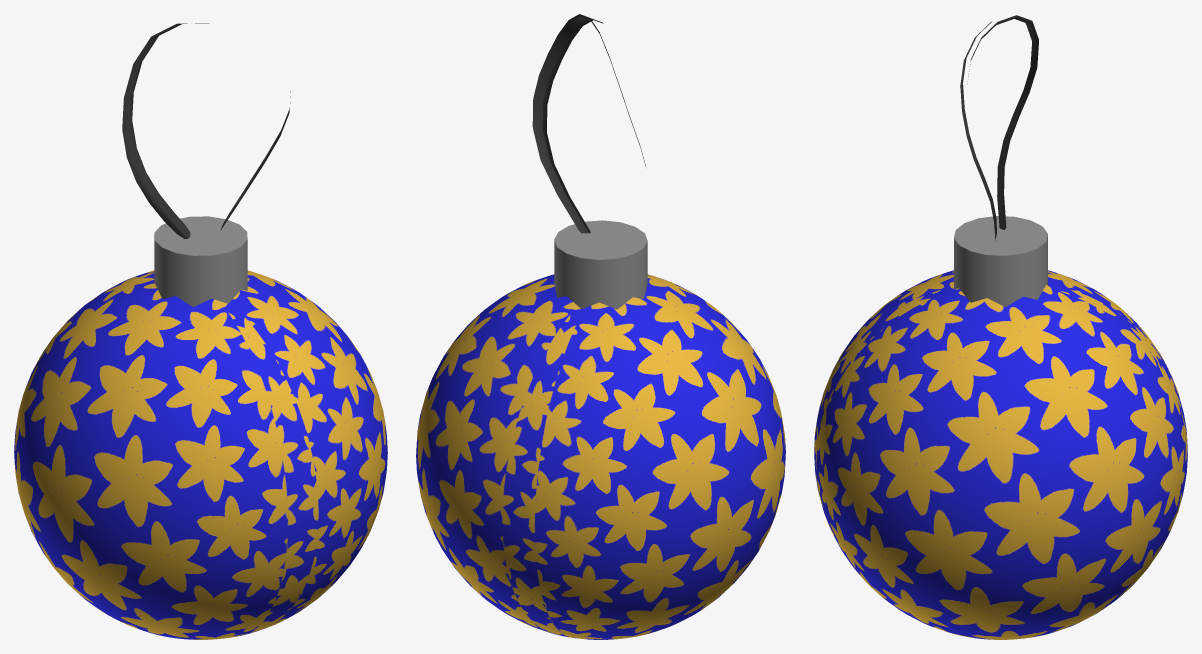
Rendered from christmas_tree_bauble.glb.
3 renders of one model, left to right at view 1: azimuth 30°, elevation 25°; view 2: azimuth 150°, elevation 25°; view 3: azimuth 270°, elevation 25°, orthographic.
Parts seen in each view (by area): view 1: Star_Ball; view 2: Star_Ball; view 3: Star_Ball.
Part boxes in pixels (left/top/right/bottom): Star_Ball: left=14, top=23, right=387, bottom=639; Star_Ball: left=416, top=14, right=785, bottom=639; Star_Ball: left=814, top=15, right=1187, bottom=639.
Bounding box in the file's own units: 0.9865 × 1.77 × 0.9865.
1 material, 1 textured.
